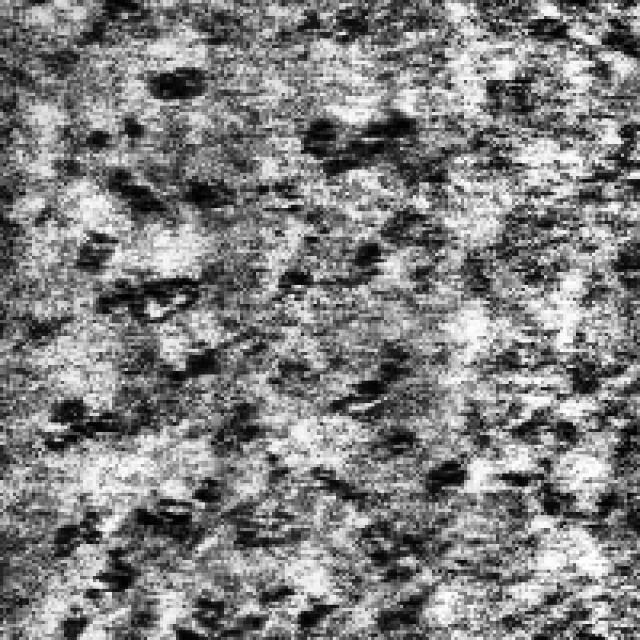Crazing: (42, 208, 384, 634), (51, 54, 461, 320), (362, 329, 612, 602)
